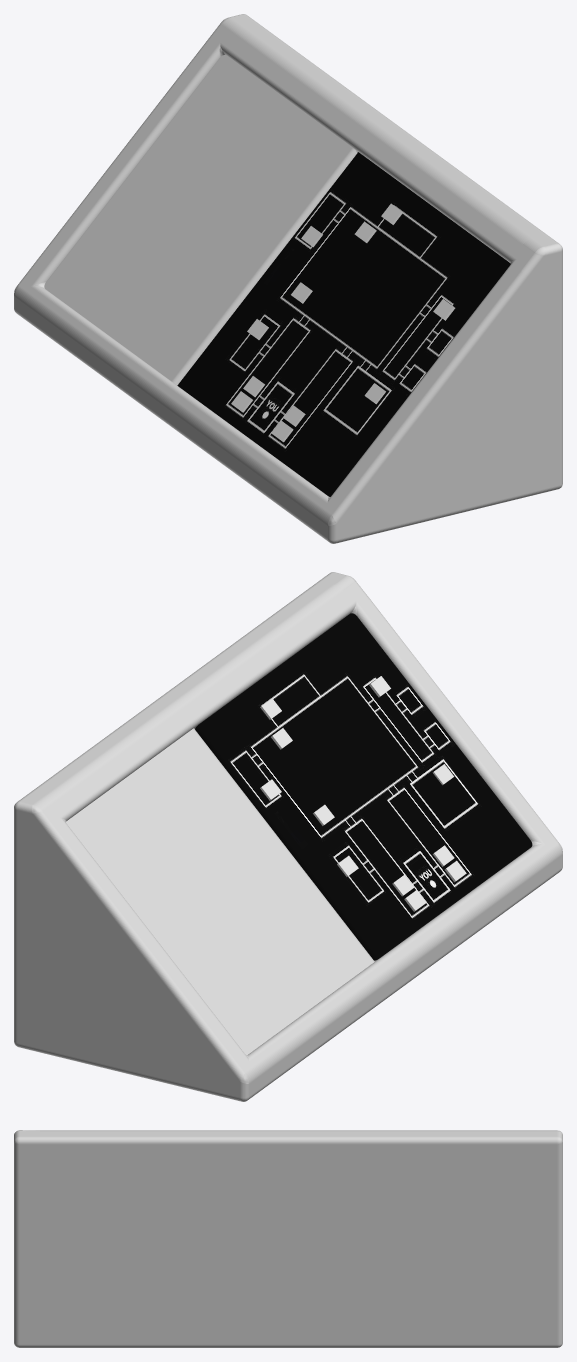
File: Планшет.fbx
3 views of the same model, one above another, from view 1: azimuth 30°, elevation 25°; view 2: azimuth 150°, elevation 25°; view 3: azimuth 270°, elevation 25° (orthographic). The views are drawn at different scales.
Parts seen in each view (by area): view 1: Cube.013; view 2: Cube.013; view 3: Cube.013.
Boxes of the visible parts, box(x1,y1,x2,y2) form: Cube.013: box(14, 14, 562, 543); Cube.013: box(14, 572, 562, 1101); Cube.013: box(14, 1130, 562, 1347).
Bounding box in the file's own units: 200 × 200 × 472.
2 materials, 1 textured.
